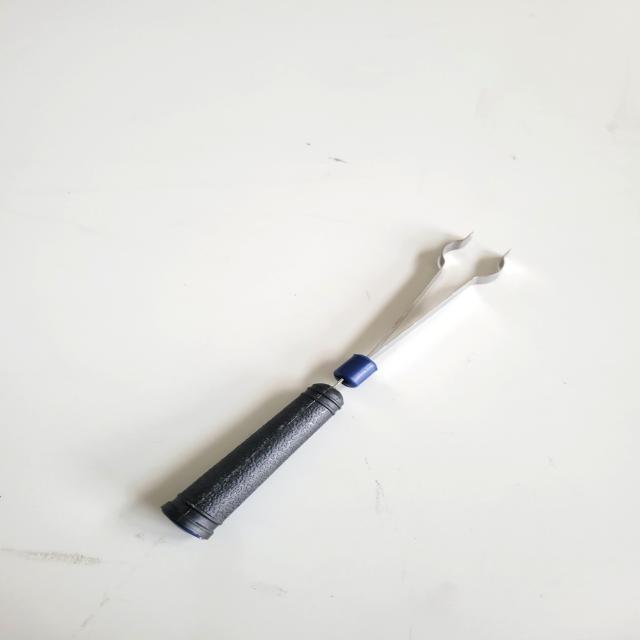TestTube_Holder: (127, 219, 523, 569)
